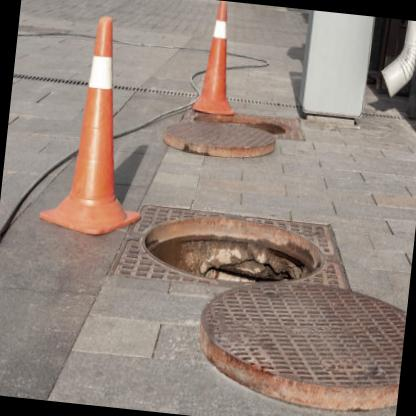manholes: (118, 181, 416, 416), (148, 51, 348, 198)
